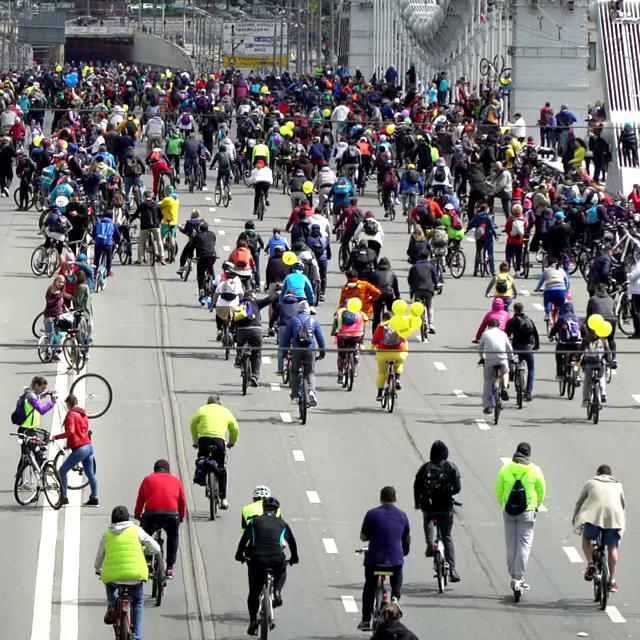bicycle: (95, 535, 165, 639), (8, 429, 63, 510), (241, 556, 294, 639), (354, 547, 400, 635), (426, 500, 462, 593), (573, 522, 610, 610), (193, 441, 230, 520), (286, 352, 323, 425), (579, 359, 612, 424), (30, 229, 73, 278), (477, 359, 506, 425), (607, 279, 635, 335), (234, 339, 261, 395), (409, 288, 435, 343), (335, 339, 361, 391), (191, 256, 219, 304), (556, 352, 581, 399), (379, 359, 399, 413), (111, 223, 136, 264), (509, 357, 527, 408), (444, 237, 465, 278), (475, 236, 496, 277), (212, 169, 233, 207), (543, 299, 561, 341), (378, 186, 399, 221), (160, 220, 177, 263), (273, 156, 292, 194), (220, 314, 235, 360), (251, 185, 270, 221), (124, 174, 144, 208), (430, 252, 445, 294), (155, 170, 173, 202), (142, 229, 157, 266)
